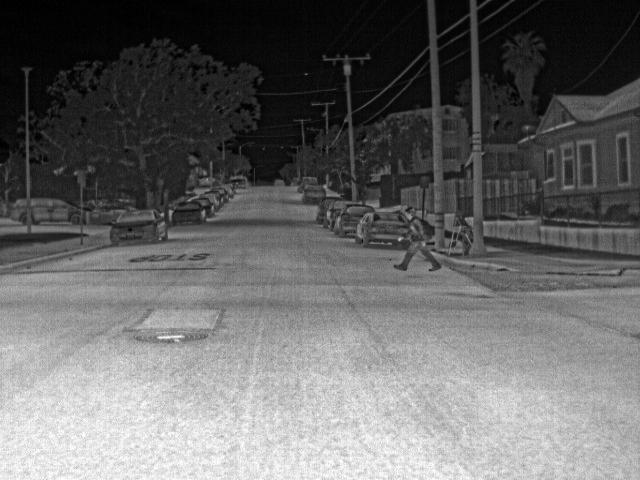car: (110, 209, 167, 249), (356, 210, 403, 250), (30, 196, 80, 226), (173, 200, 207, 225), (334, 202, 355, 236), (325, 200, 346, 230), (10, 196, 28, 226), (194, 197, 216, 218), (303, 184, 324, 203), (318, 197, 330, 224), (205, 190, 220, 211), (232, 176, 250, 190), (216, 186, 231, 202), (298, 180, 316, 193), (289, 176, 305, 188), (223, 183, 236, 197)
person: (393, 204, 443, 274)
